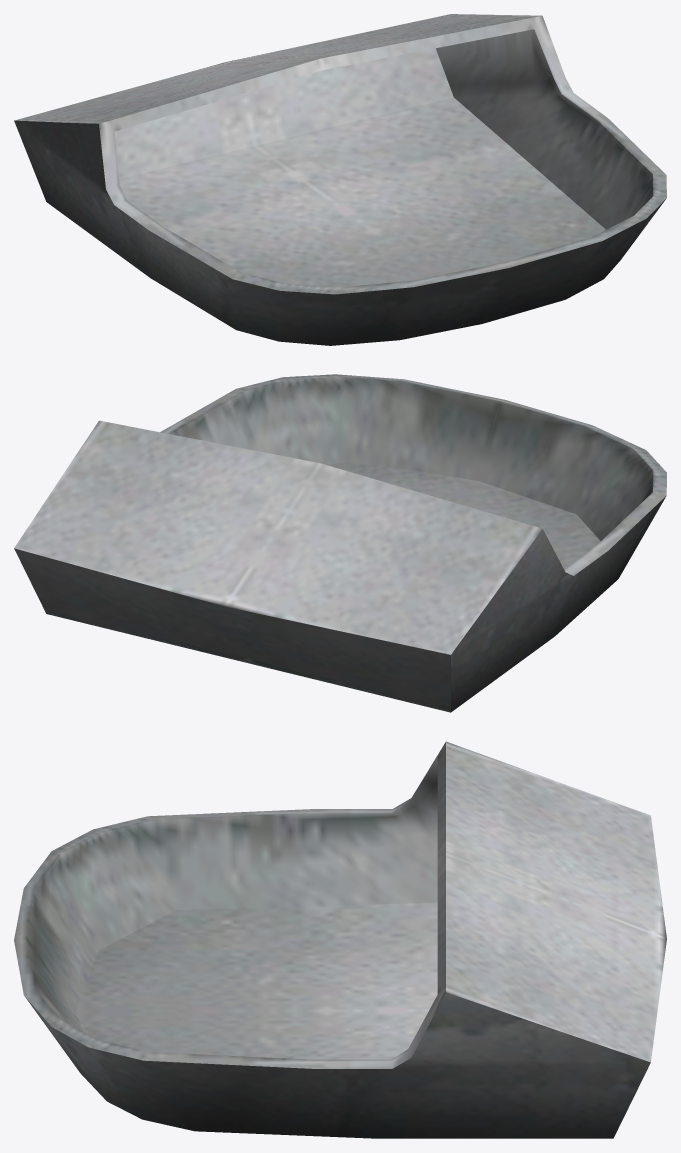
File: eqp_cook_baking_dish_l0.fbx
3 renders of one model, top to bottom at view 1: azimuth 30°, elevation 25°; view 2: azimuth 150°, elevation 25°; view 3: azimuth 270°, elevation 25°, orthographic. The views are drawn at different scales.
Parts seen in each view (by area): view 1: mesh_node; view 2: mesh_node; view 3: mesh_node.
Boxes of the visible parts, bbox=[...] form: mesh_node: bbox=[14, 14, 666, 345]; mesh_node: bbox=[14, 374, 666, 712]; mesh_node: bbox=[14, 741, 666, 1138].
Size of the model in its own units: 0.3351 by 0.1025 by 0.3559.
